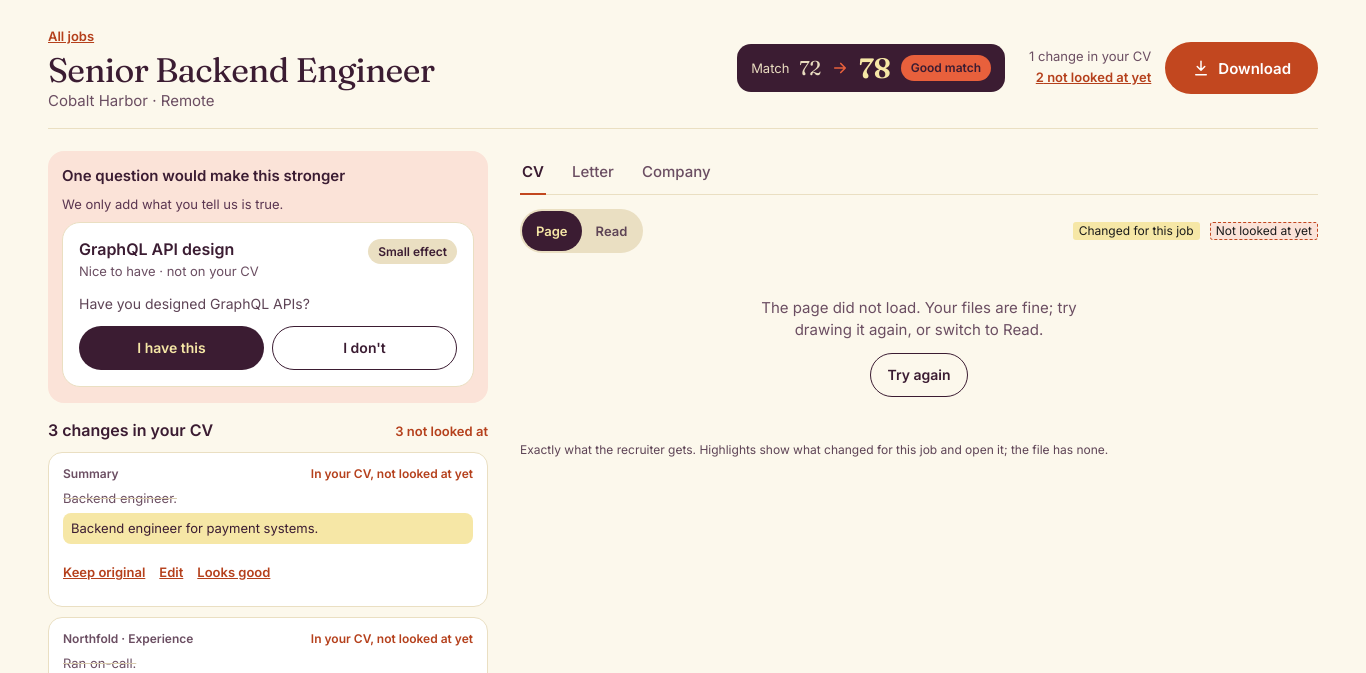
questions above the CV › turns "I have this" into a bullet that joins the CV only when added
Click the button "I have this" at (172,348), box [79,326,264,370]
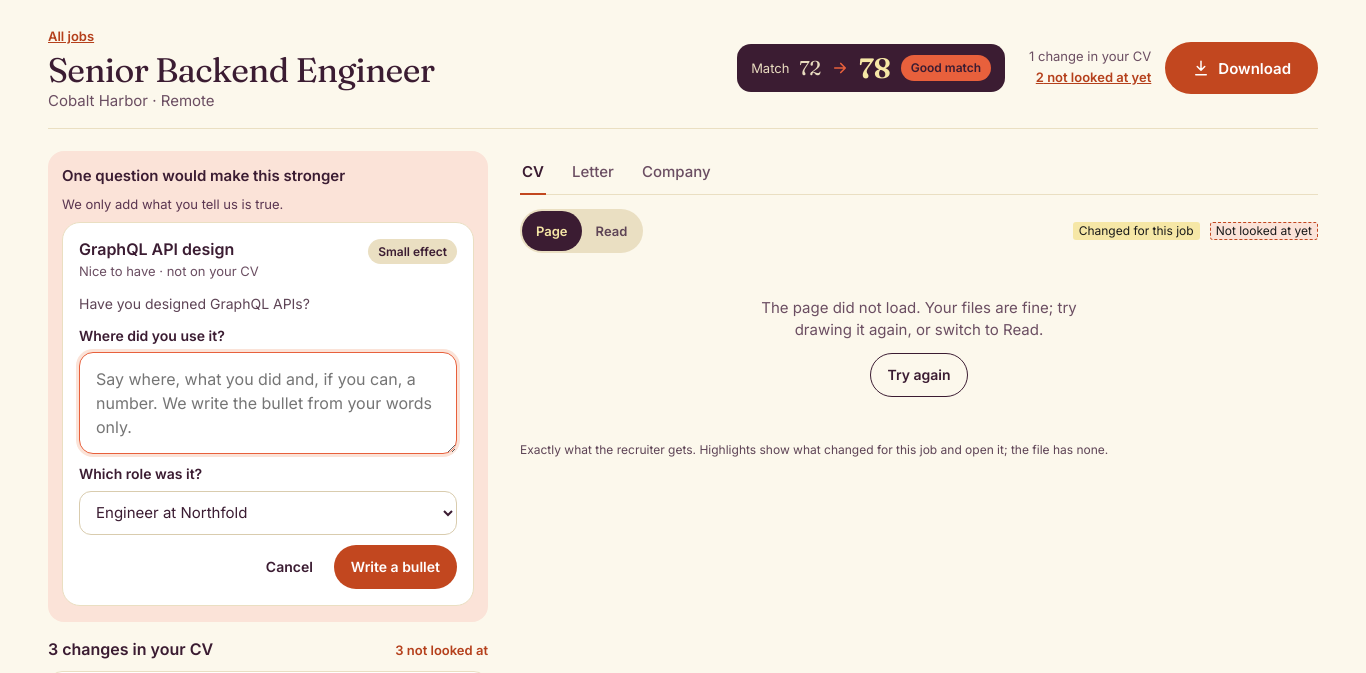
Type "Built the GraphQL gateway at Quarry for the dashboard." into the text box labelled "Where did you use it?" at (268,403), box [79,352,457,454]
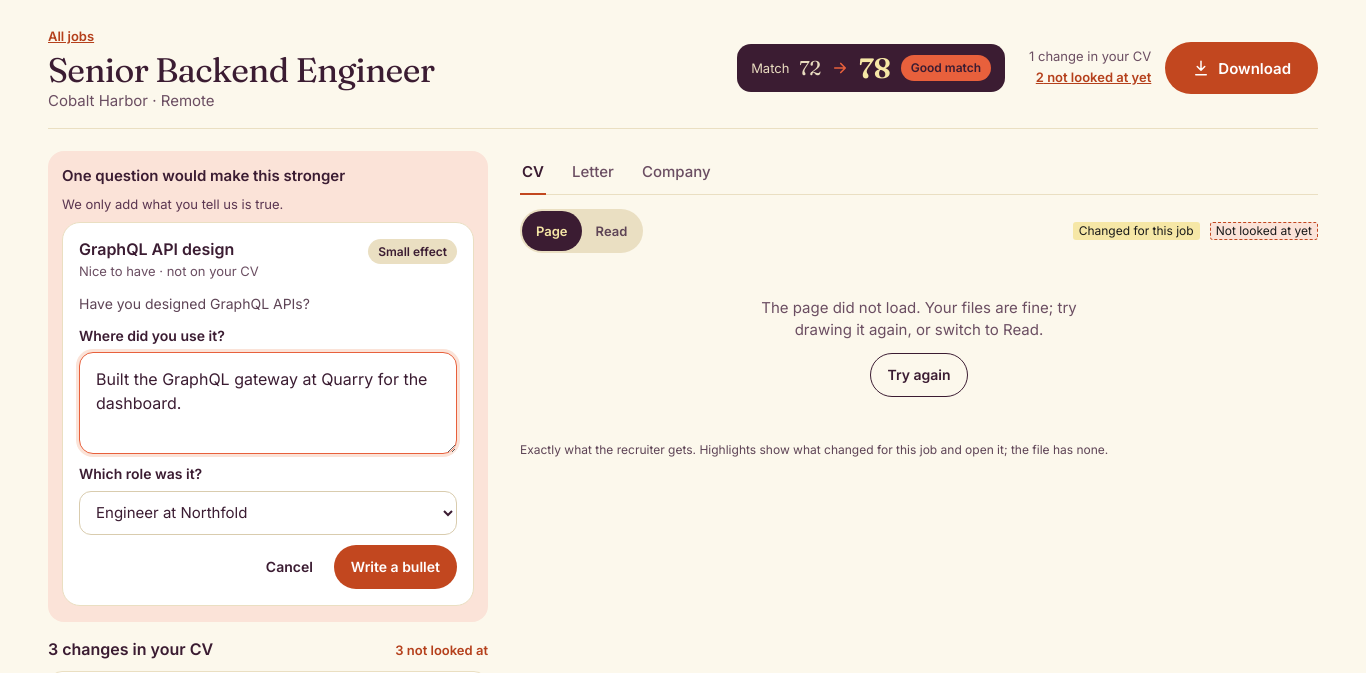
Select "Engineer at Quarry" in the dropdown labelled "Which role was it?" at (268,513), box [79,491,457,535]
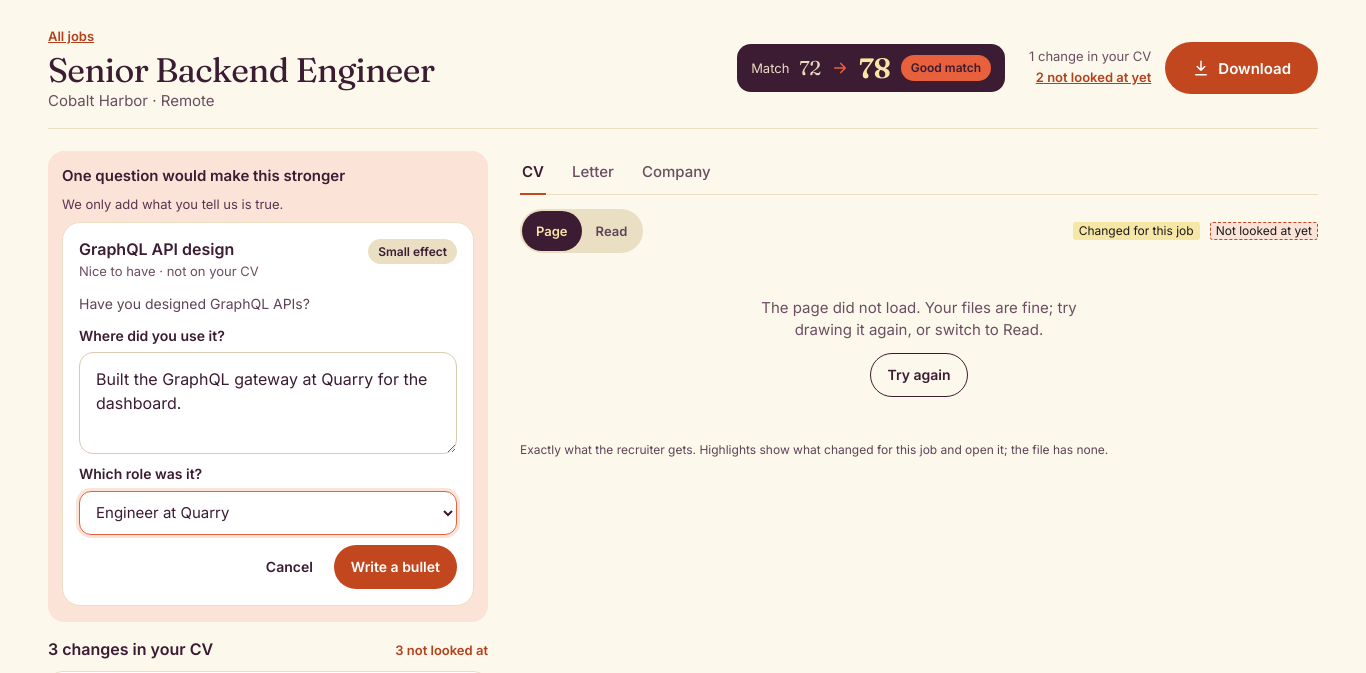
Click the button "Write a bullet" at (395,567), box [334,545,457,589]
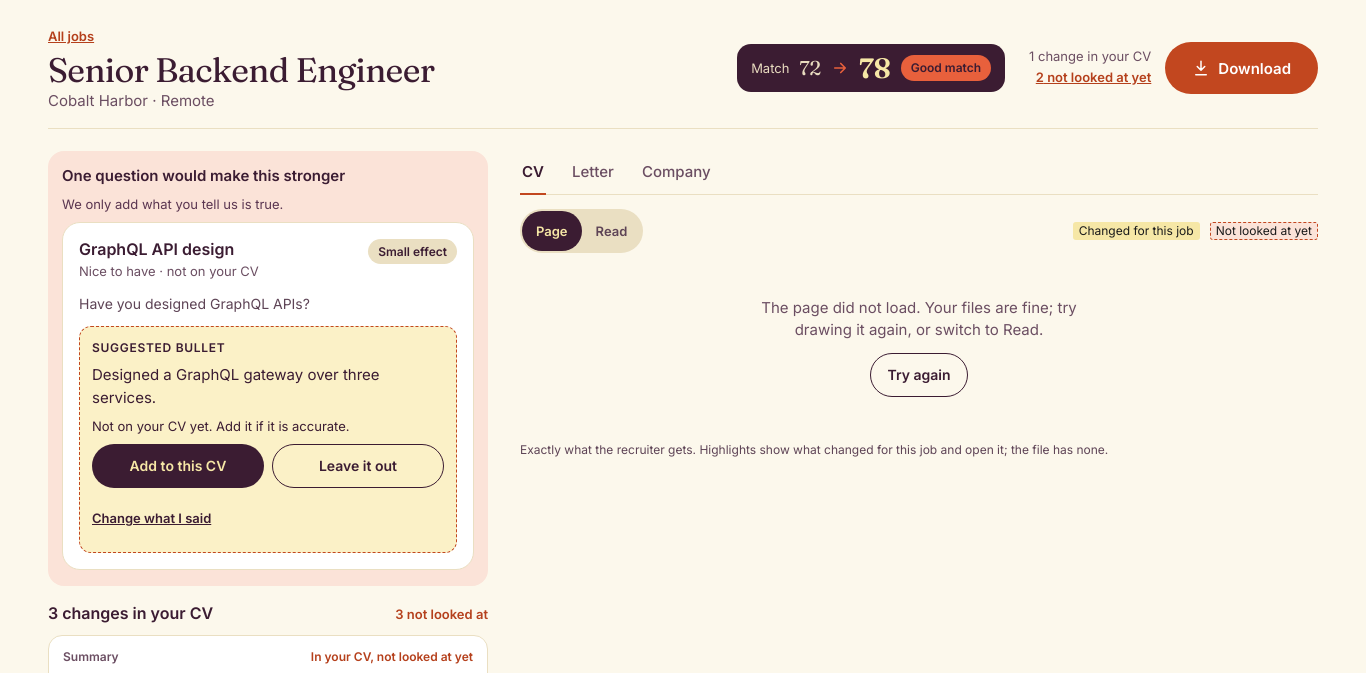
Expected: the text "Suggested bullet" is shown, [92,340,226,355]
Click the button "Add to this CV" at (178,466), box [92,444,264,488]
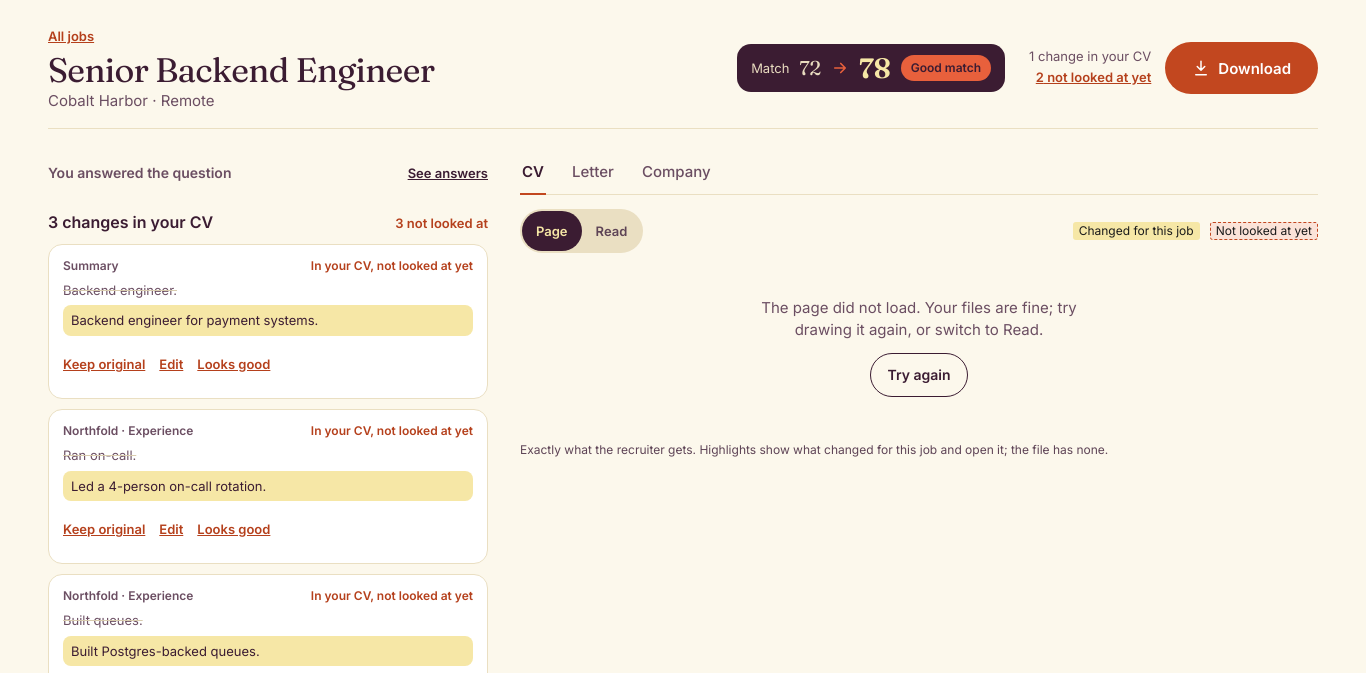
Expected: the heading "You answered the question" is shown, [48,163,232,183]
Click the button "See answers" at (448,173), box [408,151,488,195]
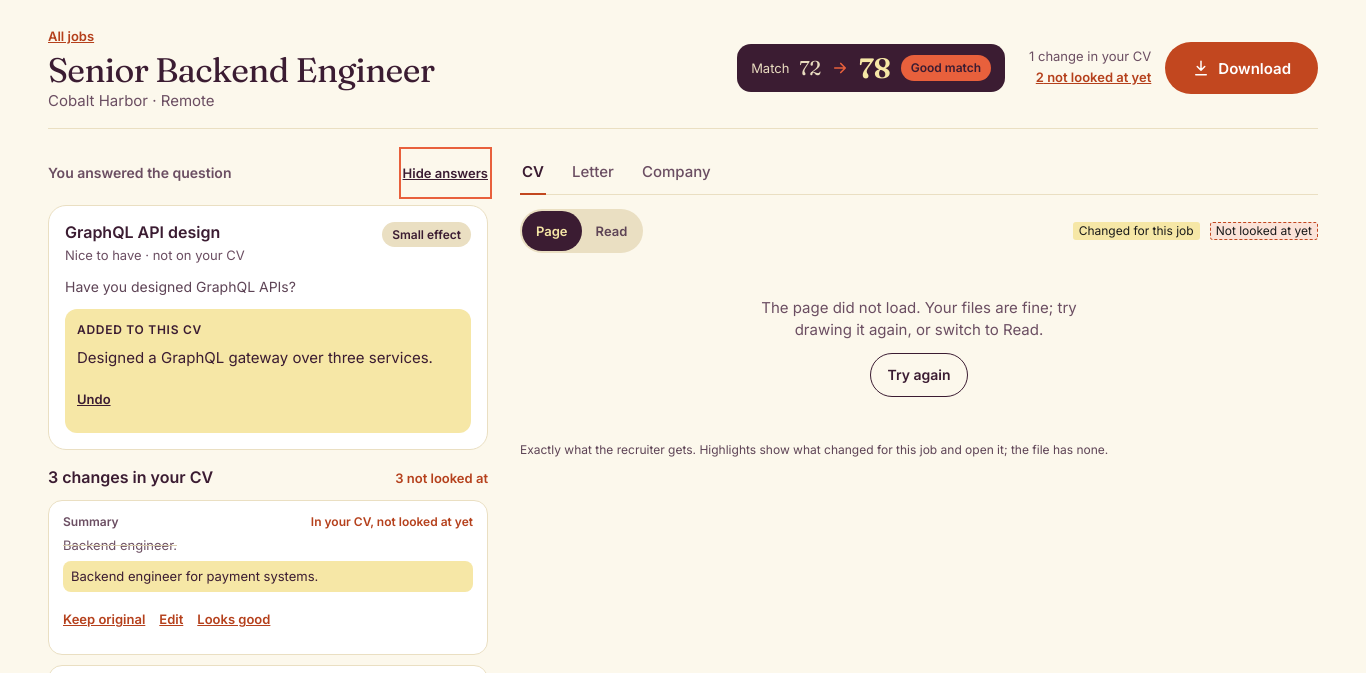
Expected: the text "Added to this CV" is shown, [77,322,202,338]
